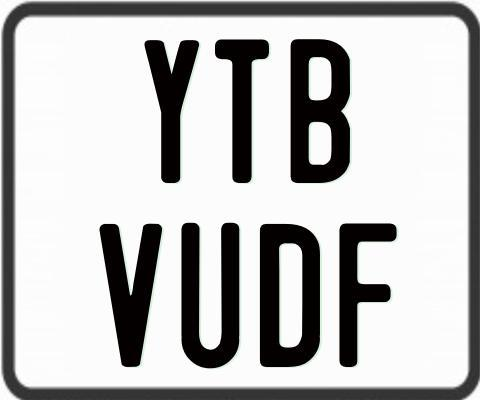B: (291, 37, 353, 186)
D: (259, 223, 322, 371)
F: (338, 221, 400, 368)
T: (215, 36, 275, 186)
U: (179, 222, 241, 368)
V: (97, 223, 160, 370)
Y: (141, 37, 197, 183)
